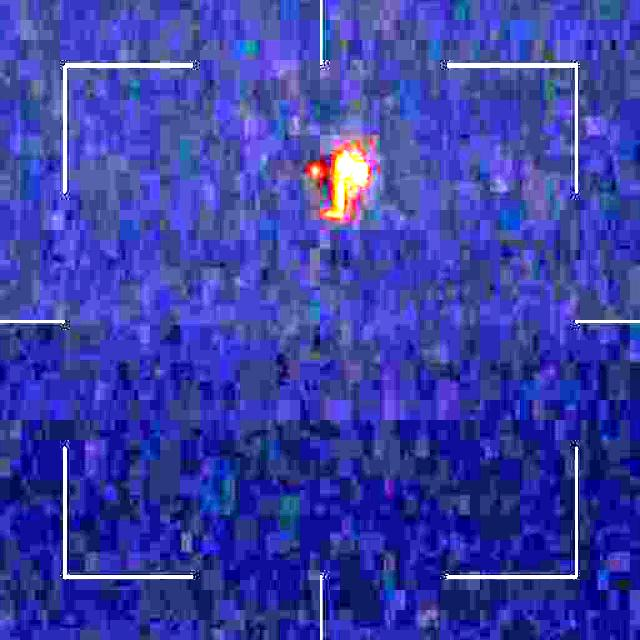bird: (299, 145, 369, 215)
